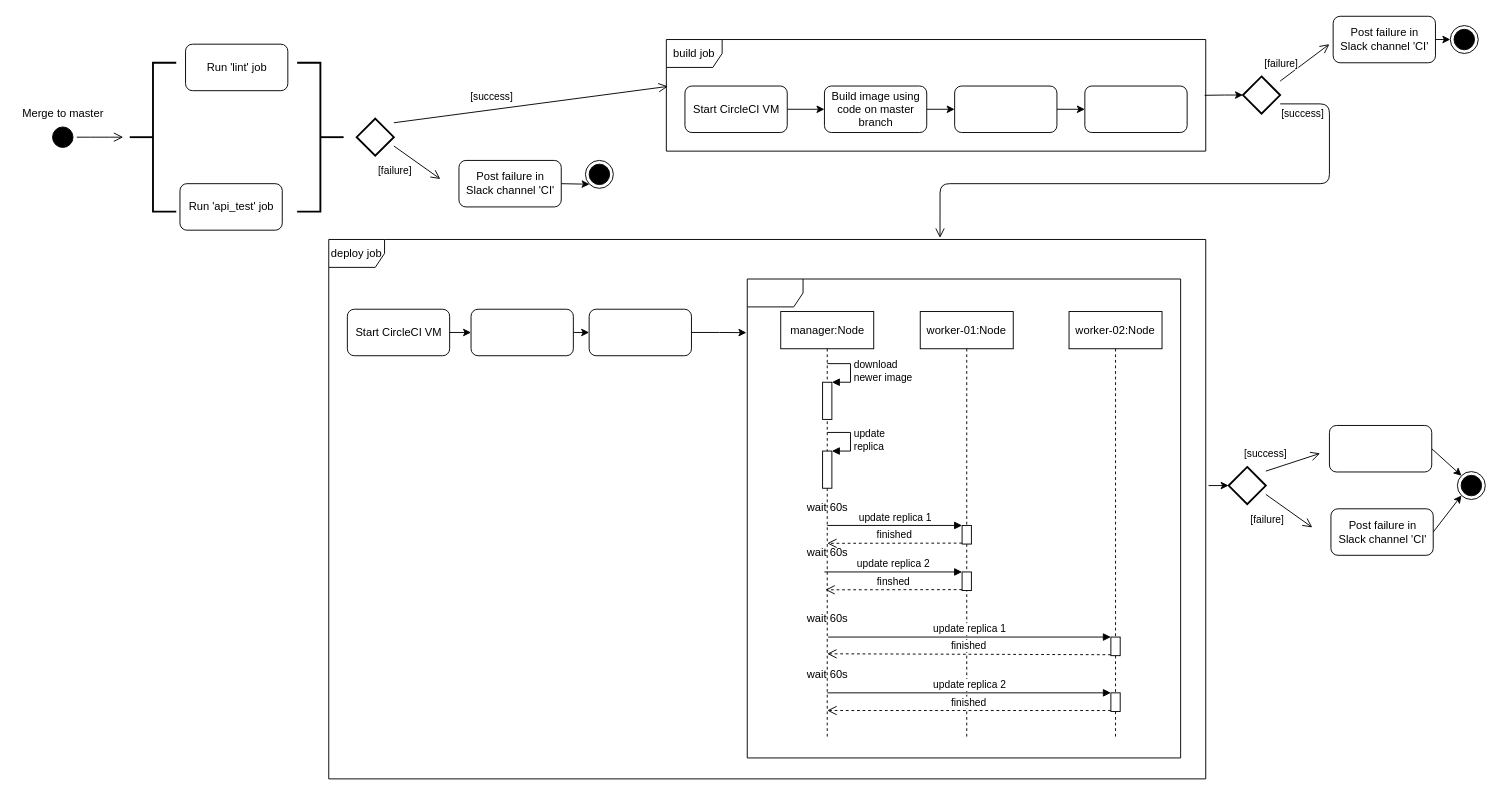
The diagram is 1502 pixels wide and 795 high, and some of its shapes have lost their labels. Each missing label, with the centre of its shape:
Execute 'update.sh': point (639, 332)
Login to DockerHub: point (1005, 109)
Post success in Slack channel 'CI': point (1380, 448)
Push image to DockerHub: point (1135, 109)
SSH into Manager node: point (521, 332)
update swarm: point (963, 518)
